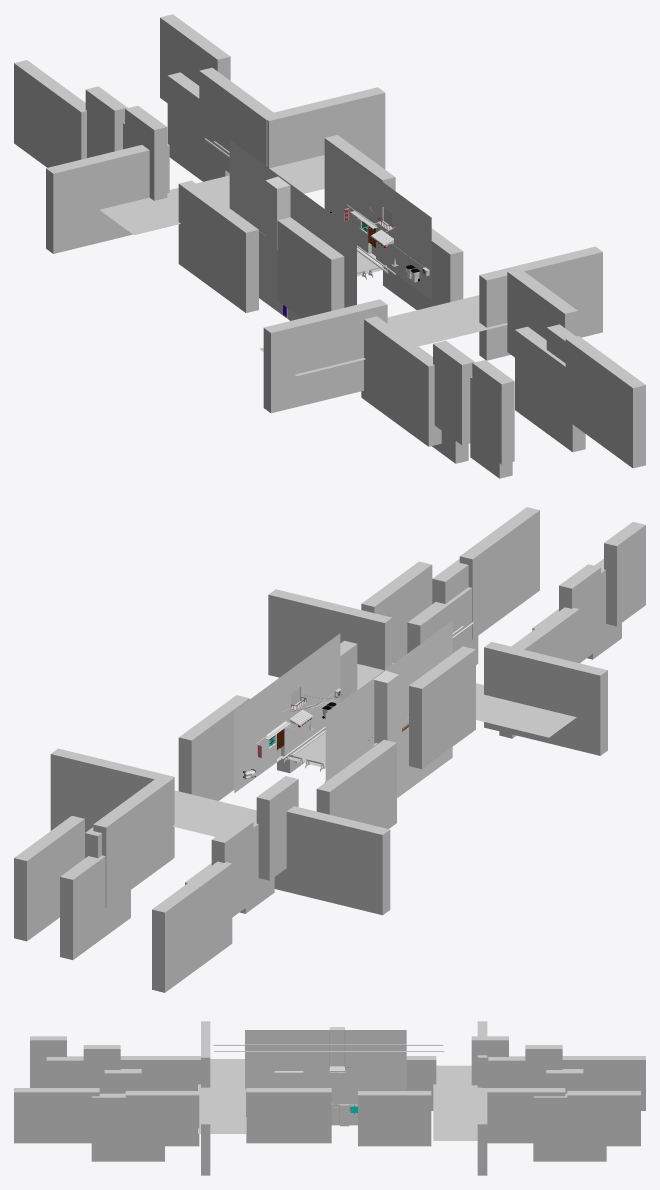
Rendered from greyboxEnv.fbx.
The picture shows the model from 3 angles, top to bottom: view 1: azimuth 30°, elevation 25°; view 2: azimuth 150°, elevation 25°; view 3: azimuth 270°, elevation 25°; orthographic projection. The views are drawn at different scales.
Visible parts, largest first — view 1: Cube.030, Plane.005, Cube.028, Plane.003, Cube.023, Cube.003, Cube.027, Cube.021, Cube.029, Cube.012, Cube.004, Cube.014 (+15 smaller); view 2: Cube.028, Cube.030, Plane.005, Plane.003, Cube.012, Cube.029, Cube.014, Cube.023, Cube.004, Cube.027, Cube.017, Cube.003 (+16 smaller); view 3: Plane.005, Cube.005, Cube.023, Cube.026, Cube.017, Cube.008, Plane.003, Plane.001, Cube.014, Plane.002, Cube.012, Cube.021 (+18 smaller).
Boxes of the visible parts, x1=… form: Cube.030: x1=263, y1=299, x2=387, y2=413; Plane.005: x1=229, y1=140, x2=356, y2=320; Cube.028: x1=46, y1=144, x2=169, y2=253; Plane.003: x1=325, y1=140, x2=431, y2=299; Cube.023: x1=565, y1=336, x2=645, y2=468; Cube.003: x1=178, y1=180, x2=258, y2=312; Cube.027: x1=262, y1=87, x2=385, y2=169; Cube.021: x1=361, y1=316, x2=441, y2=446; Cube.029: x1=479, y1=246, x2=602, y2=360; Cube.012: x1=14, y1=60, x2=86, y2=167; Cube.004: x1=277, y1=217, x2=344, y2=318; Cube.014: x1=199, y1=67, x2=278, y2=172; Cube.028: x1=274, y1=806, x2=390, y2=915; Cube.030: x1=484, y1=642, x2=607, y2=755; Plane.005: x1=325, y1=621, x2=452, y2=797; Plane.003: x1=234, y1=633, x2=340, y2=793; Cube.012: x1=152, y1=861, x2=232, y2=992; Cube.029: x1=268, y1=589, x2=392, y2=677; Cube.014: x1=93, y1=775, x2=173, y2=907; Cube.023: x1=459, y1=507, x2=539, y2=639; Cube.004: x1=409, y1=646, x2=475, y2=769; Cube.027: x1=50, y1=748, x2=174, y2=857; Cube.017: x1=14, y1=816, x2=84, y2=941; Cube.003: x1=316, y1=739, x2=396, y2=828; Plane.005: x1=245, y1=1027, x2=406, y2=1116; Cube.005: x1=246, y1=1088, x2=331, y2=1143; Cube.023: x1=14, y1=1088, x2=99, y2=1143; Cube.026: x1=125, y1=1091, x2=199, y2=1146; Cube.017: x1=567, y1=1091, x2=640, y2=1146; Cube.008: x1=358, y1=1091, x2=431, y2=1146; Plane.003: x1=268, y1=1072, x2=403, y2=1126; Plane.001: x1=433, y1=1065, x2=480, y2=1140; Cube.014: x1=480, y1=1088, x2=565, y2=1143; Plane.002: x1=198, y1=1059, x2=245, y2=1133; Cube.012: x1=562, y1=1056, x2=645, y2=1110; Cube.021: x1=120, y1=1056, x2=200, y2=1090.
Size of the model in its own units: 10214 by 4544 by 26475.
